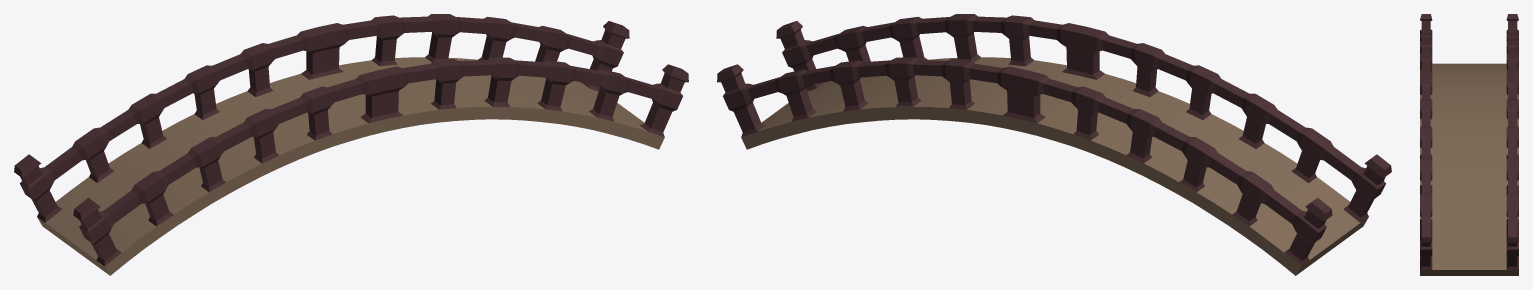
Rendered from Bridge_1.glb.
The picture shows the model from 3 angles, left to right: view 1: azimuth 30°, elevation 25°; view 2: azimuth 150°, elevation 25°; view 3: azimuth 270°, elevation 25°; orthographic projection. The views are drawn at different scales.
Parts seen in each view (by area): view 1: Bridge 1; view 2: Bridge 1; view 3: Bridge 1.
Boxes of the visible parts, <box> form: Bridge 1: <box>14,14,688,275</box>; Bridge 1: <box>717,14,1391,275</box>; Bridge 1: <box>1420,14,1518,275</box>.
Size of the model in its own units: 8.37 by 1.84 by 1.62.
